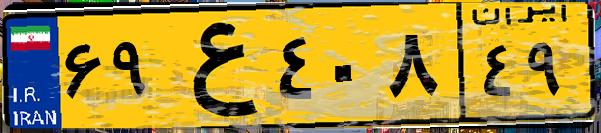0: (330, 28, 385, 110)
4: (270, 28, 330, 110), (475, 38, 525, 113)
6: (57, 26, 110, 100)
8: (385, 28, 445, 110)
9: (525, 38, 570, 115), (110, 28, 158, 98)
ع: (158, 12, 270, 120)
